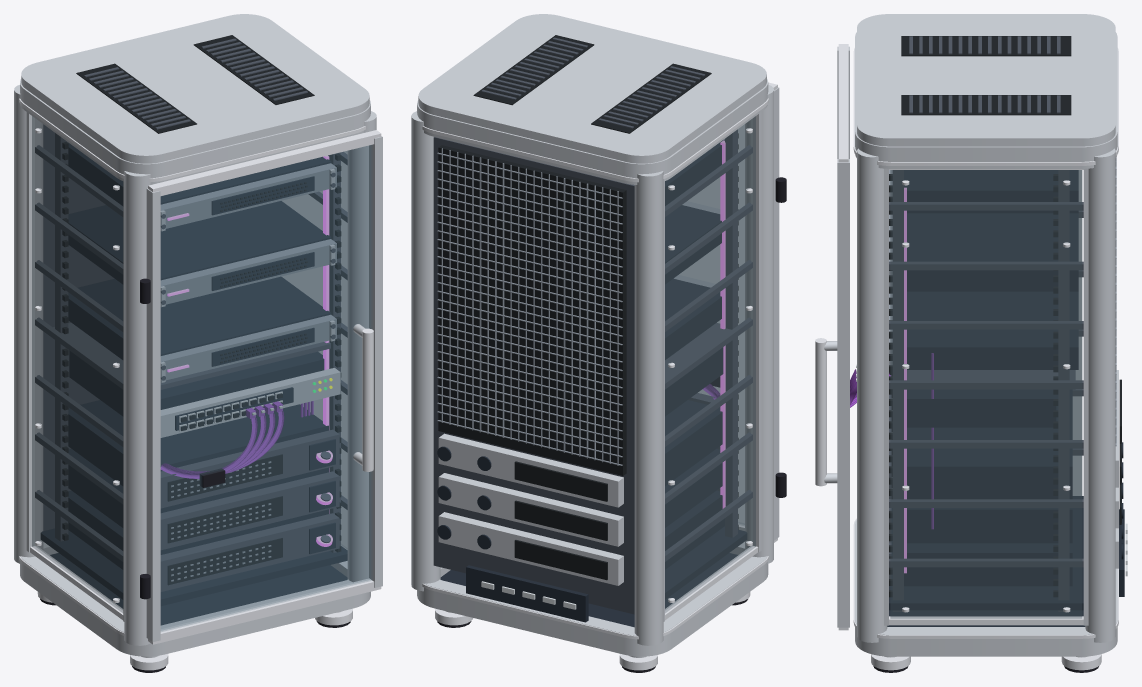
The model's file is semester-3.glb.
3 views of the same model, side by side, from view 1: azimuth 30°, elevation 25°; view 2: azimuth 150°, elevation 25°; view 3: azimuth 270°, elevation 25° (orthographic). The views are drawn at different scales.
Parts seen in each view (by area): view 1: Door_glass, Body_silver, Body_black, Body_rear_glass, Body_dark, Body_vent, Door_silver, Body_server, Door_chrome, Body_chrome, Body_cable, Body_led (+2 smaller); view 2: Body_silver, Body_vent, Body_rear_glass, Body_dark, Body_server, Body_black, Body_chrome, Door_glass, Door_silver, Body_led, Body_rubber; view 3: Body_rear_glass, Body_silver, Body_black, Body_dark, Body_vent, Door_silver, Body_chrome, Door_chrome, Body_led, Body_server, Body_cable.
Part boxes in pixels (<box>): Door_glass: <box>161,145,372,631</box>; Body_silver: <box>14,14,376,657</box>; Body_black: <box>40,143,347,625</box>; Body_rear_glass: <box>32,116,347,612</box>; Body_dark: <box>35,38,347,591</box>; Body_vent: <box>62,35,341,585</box>; Door_silver: <box>146,136,382,641</box>; Body_server: <box>160,163,336,581</box>; Door_chrome: <box>148,130,381,644</box>; Body_chrome: <box>19,98,365,670</box>; Body_cable: <box>160,401,313,478</box>; Body_led: <box>167,155,332,546</box>; Body_silver: <box>411,14,773,657</box>; Body_vent: <box>438,35,738,580</box>; Body_rear_glass: <box>665,116,755,612</box>; Body_dark: <box>433,37,752,614</box>; Body_server: <box>437,139,724,465</box>; Body_black: <box>437,139,747,627</box>; Body_chrome: <box>422,98,768,670</box>; Door_glass: <box>679,125,744,524</box>; Door_silver: <box>774,87,779,540</box>; Body_led: <box>720,140,725,508</box>; Body_rubber: <box>437,177,786,672</box>; Body_rear_glass: <box>890,170,1082,618</box>; Body_silver: <box>855,14,1118,657</box>; Body_black: <box>887,170,1124,626</box>; Body_dark: <box>889,36,1083,611</box>; Body_vent: <box>889,36,1121,597</box>; Door_silver: <box>824,46,849,627</box>; Body_chrome: <box>853,48,1118,670</box>; Door_chrome: <box>815,44,848,630</box>; Body_led: <box>904,187,906,573</box>; Body_server: <box>889,157,1116,446</box>; Body_cable: <box>850,353,933,529</box>.
Size of the model in its own units: 1.35 by 2.7 by 1.4.
